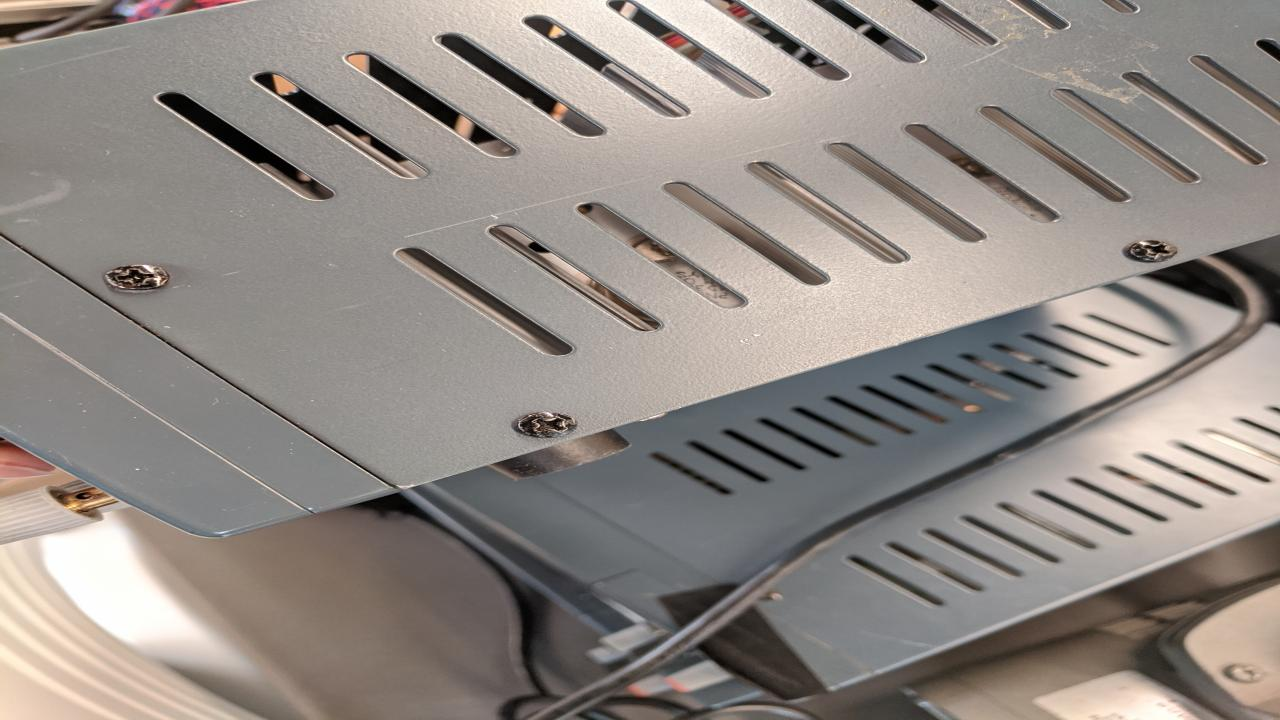CRS: (106, 262, 171, 292), (515, 412, 576, 439), (1124, 238, 1179, 265), (1221, 661, 1265, 683)
